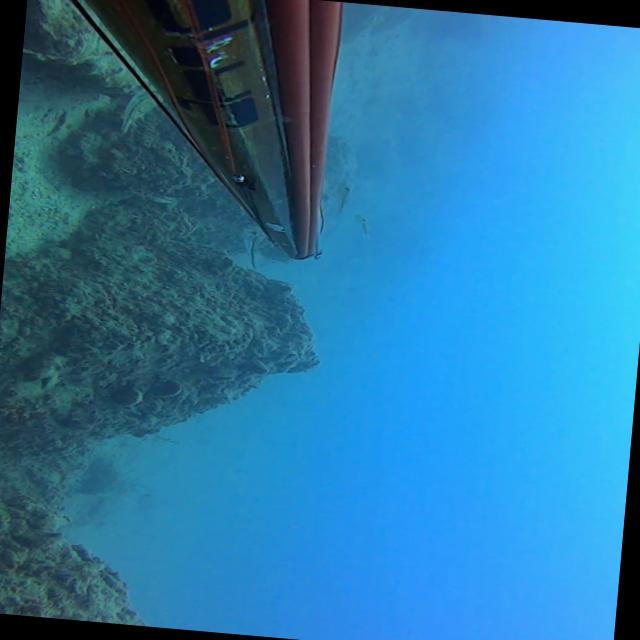Balon Baligi: (118, 86, 164, 135), (241, 224, 261, 268), (333, 181, 352, 212), (352, 212, 370, 238)
